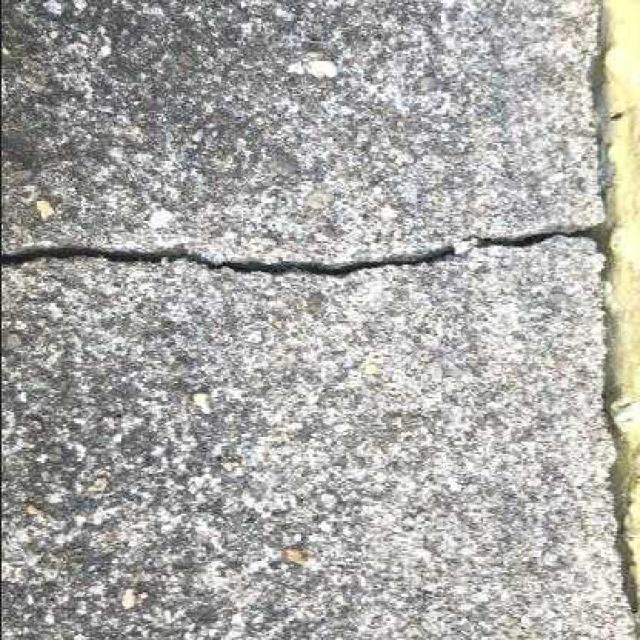D00: (2, 0, 639, 633)
